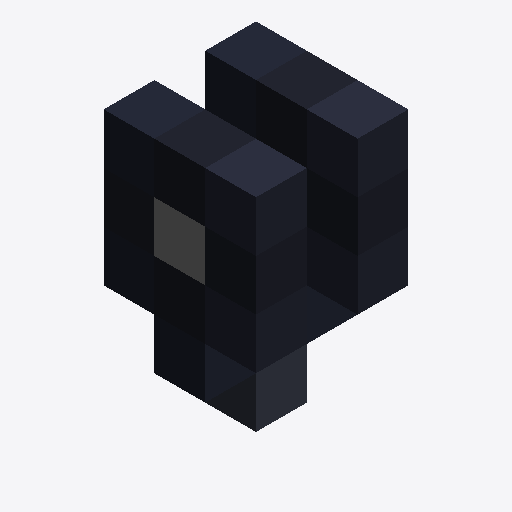
A Minecraft block model of 5 cuboids, rendered isometrically (azimuth 45°, elevation 35.3°) with the resource pack's own textures.
Parts seen in each view (by area): element 3, element 4, element 2, element 1.
Part boxes in pixels (x1,y1,x2,y2): element 3: (104, 80, 306, 372); element 4: (205, 22, 407, 314); element 2: (154, 286, 356, 401); element 1: (205, 344, 306, 431).
Bounding box in the file's own units: 3 × 5 × 3.